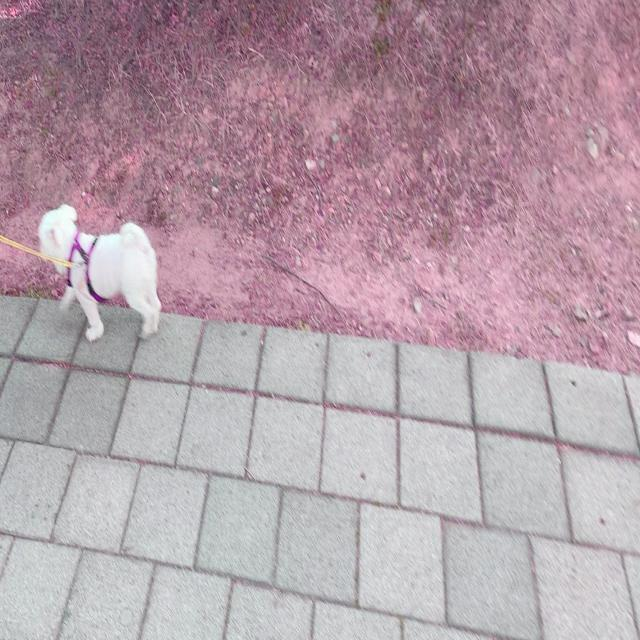Dog: (37, 203, 162, 343)
